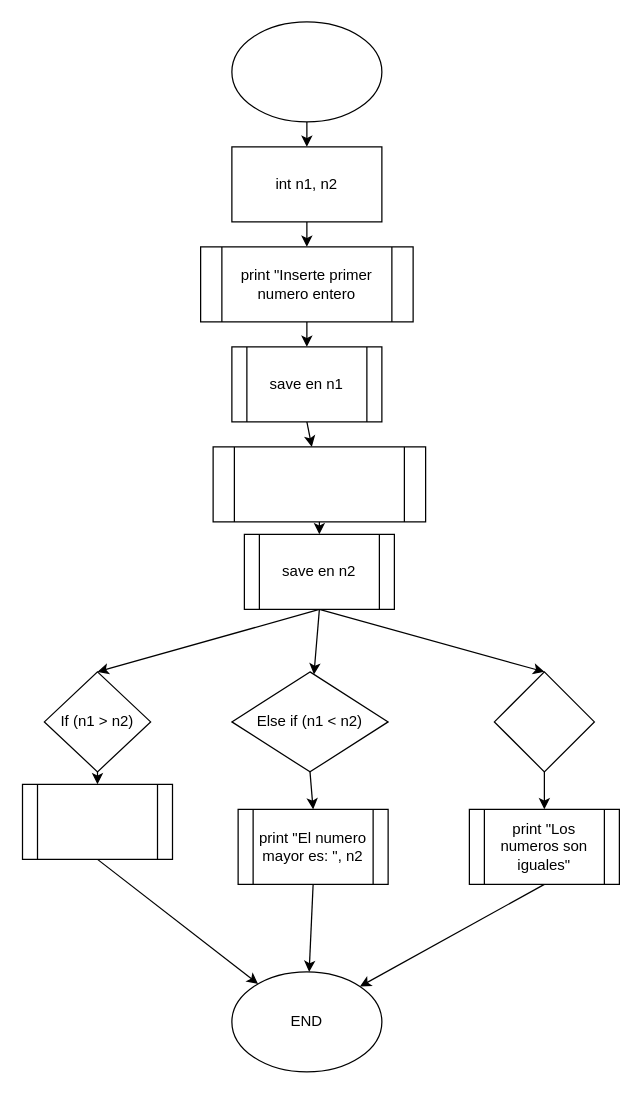
Some shapes in this 641 by 1094 pixel diagram are drawn without their labels. Each missing label, with the centre of its shape:
Else: (543,721)
print "El numero mayor es: ", n1: (96,821)
print "Inserte seguundo numero entero: (319,484)
START: (306,71)
